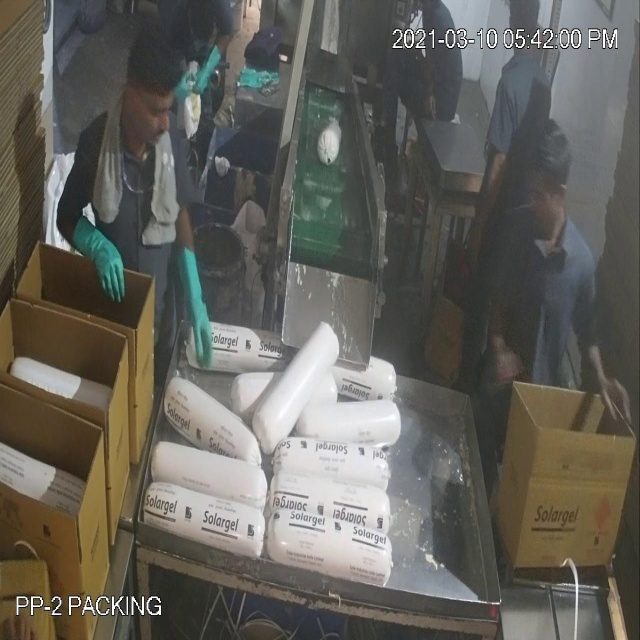Guantes: (172, 229, 227, 373), (70, 214, 140, 321)
Sin_guantes: (456, 135, 521, 294), (581, 320, 640, 449), (486, 297, 532, 406)
